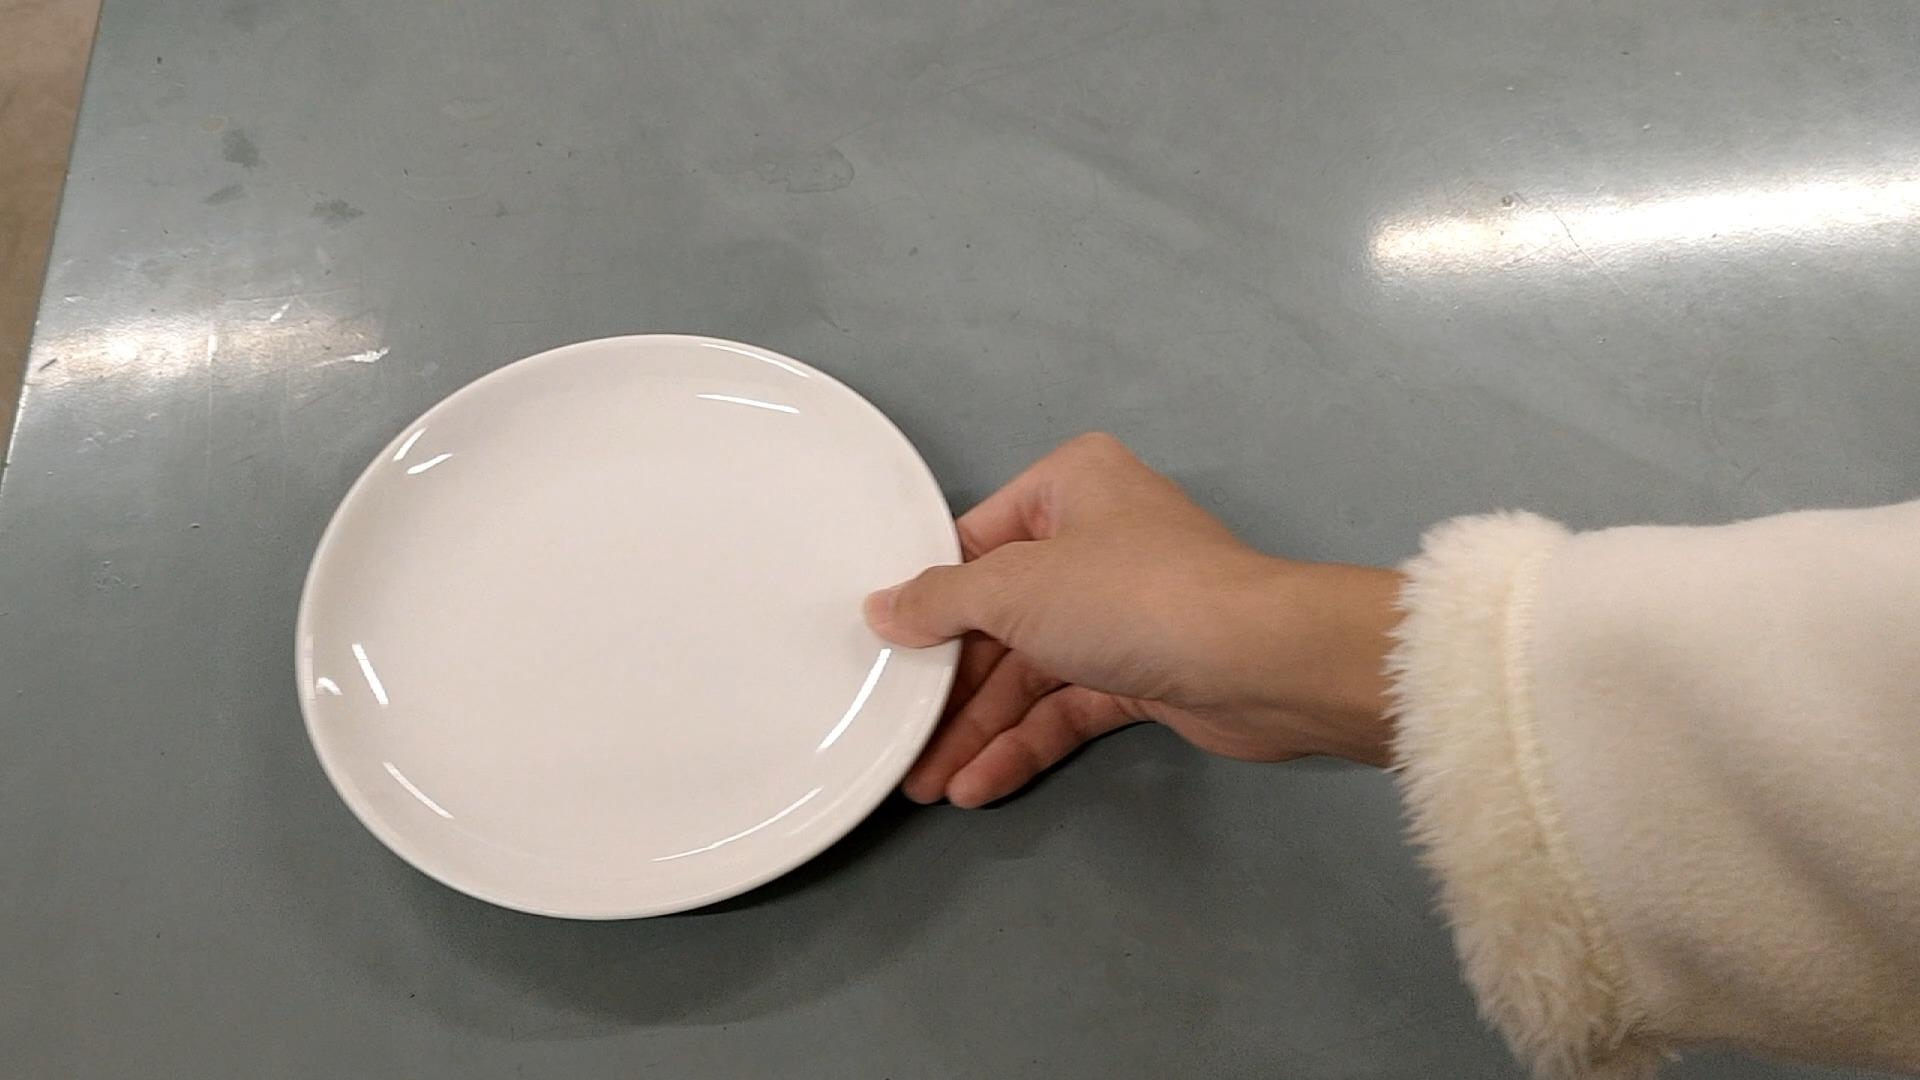plate: (298, 332, 967, 930)
